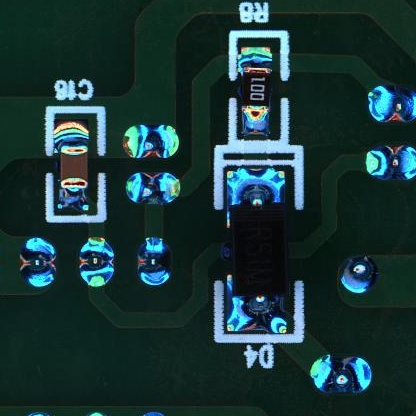spot: (310, 355, 373, 392), (124, 172, 181, 205), (368, 84, 416, 122), (124, 126, 178, 159), (19, 239, 56, 287), (79, 239, 114, 287), (366, 146, 416, 179), (339, 254, 379, 295), (137, 239, 173, 284)
